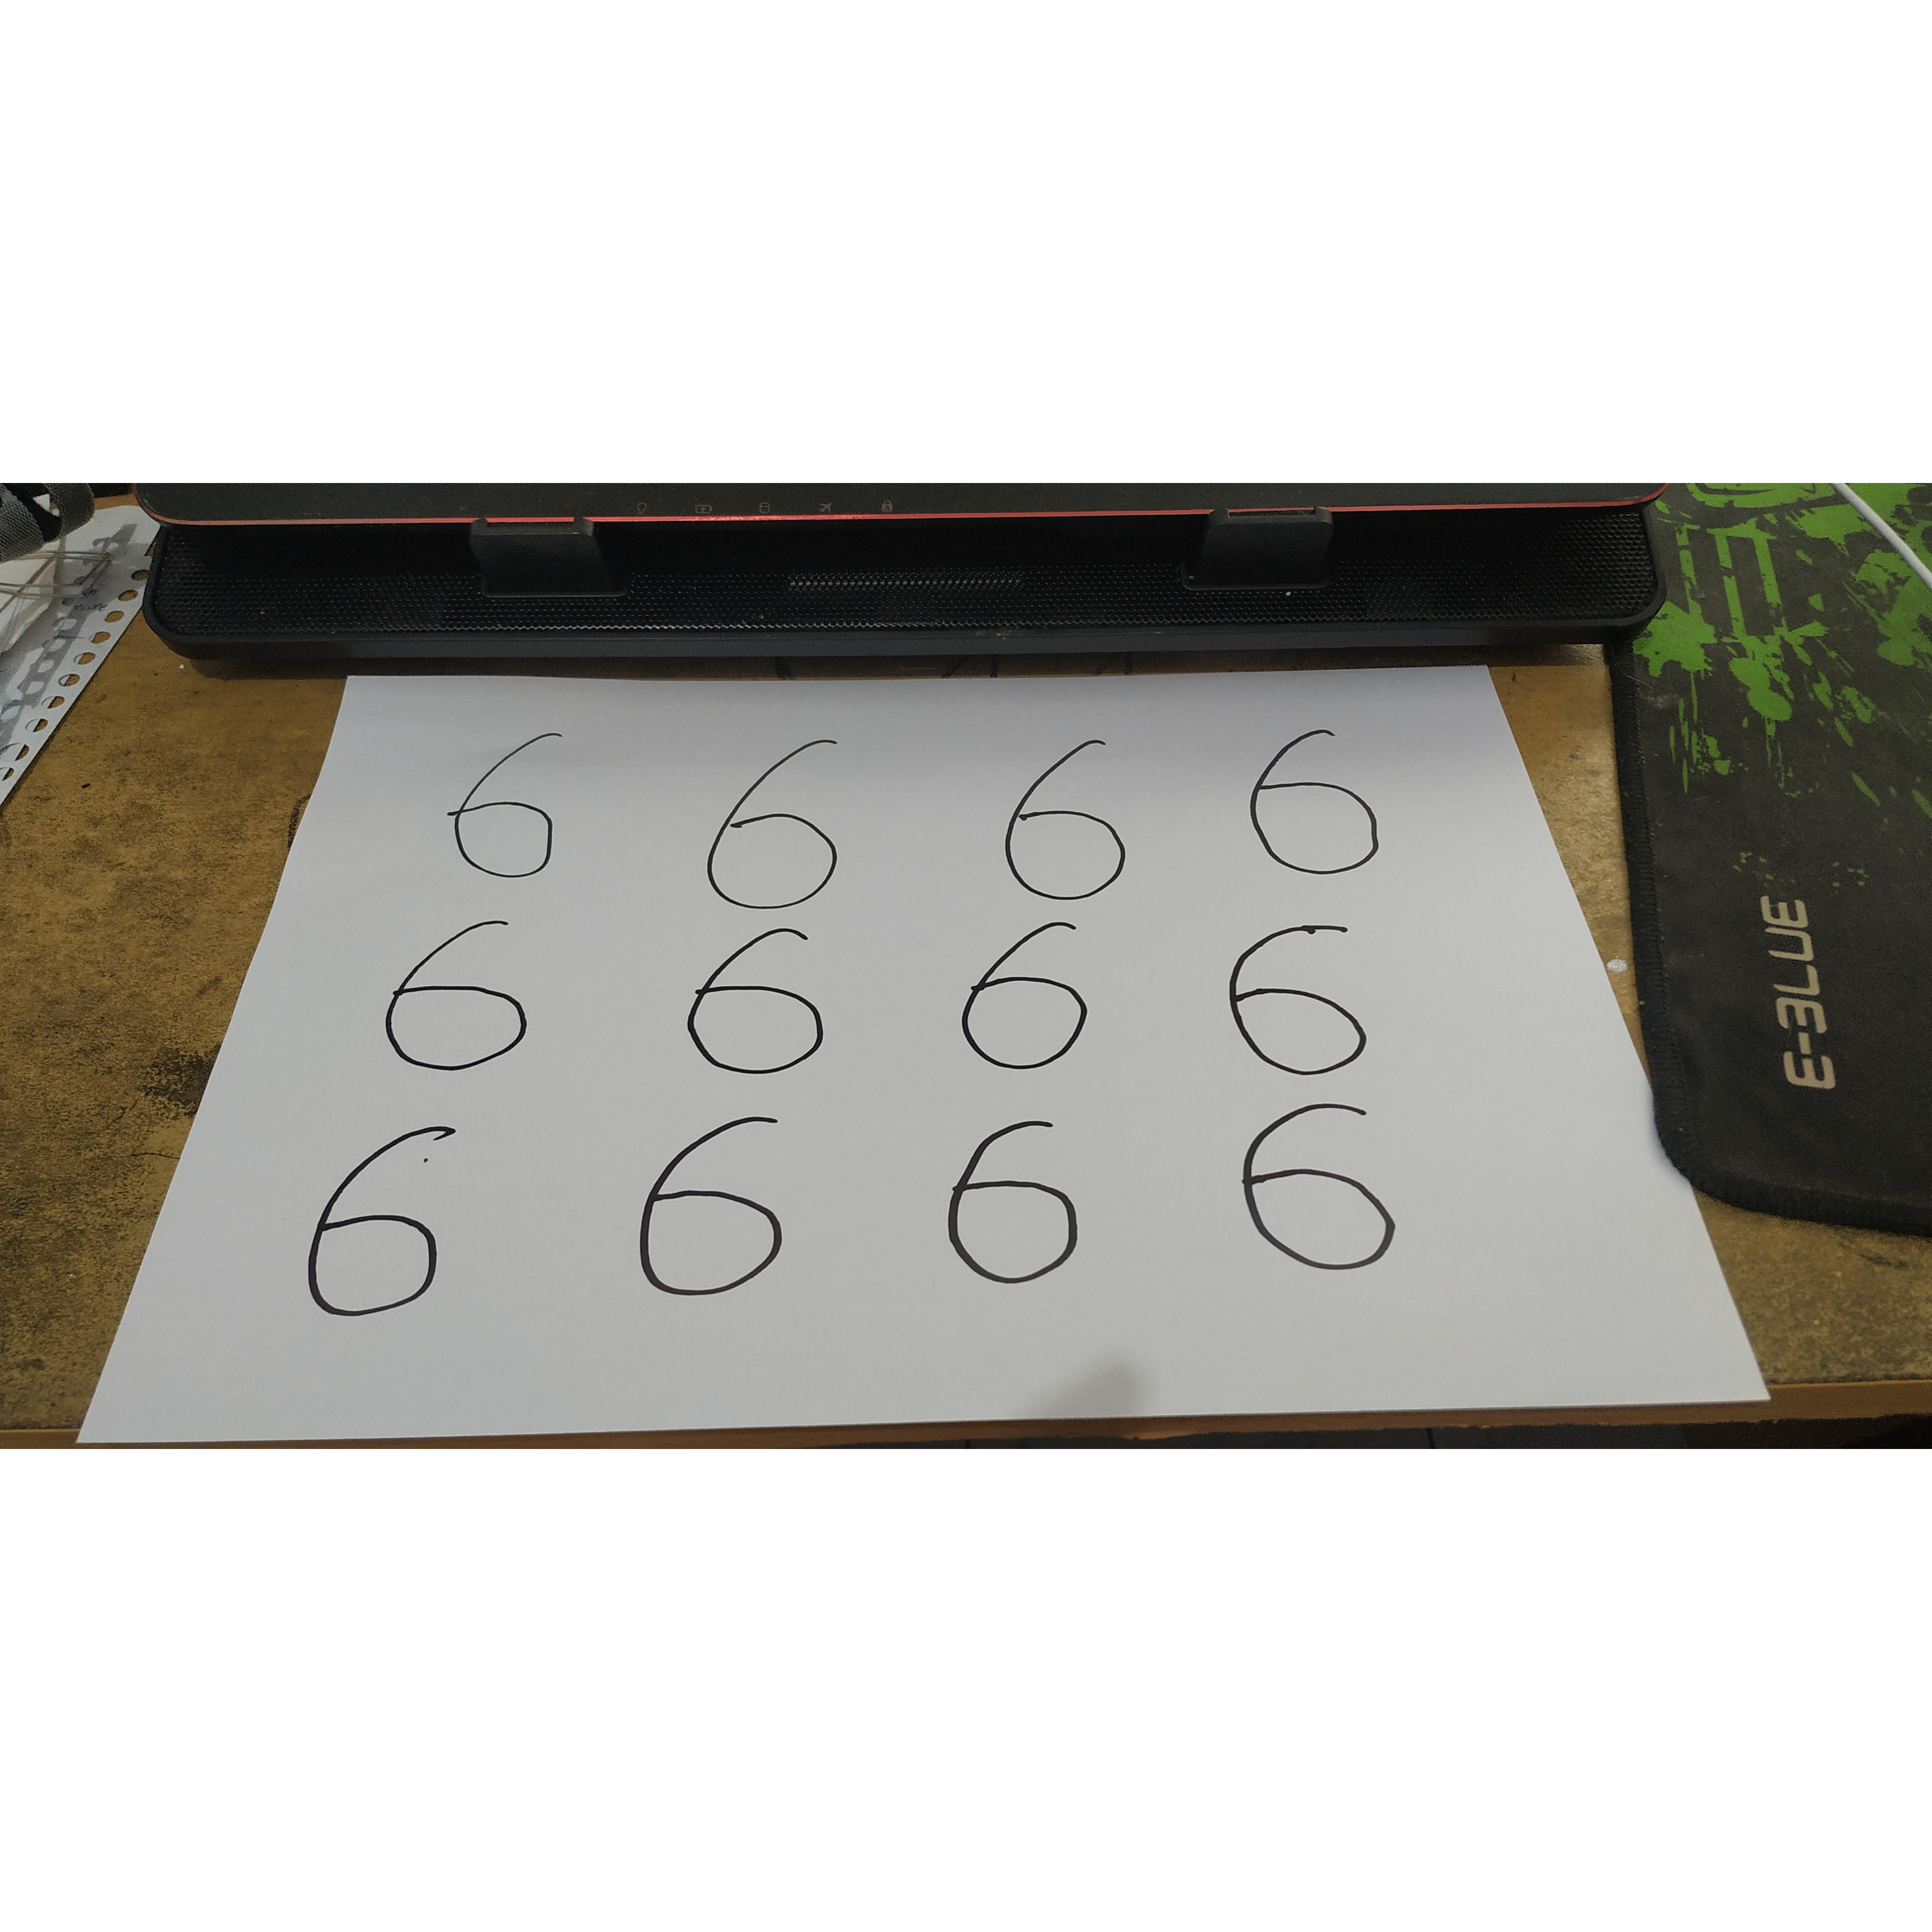num6: (1210, 1092, 1458, 1289), (270, 1113, 498, 1317), (623, 1107, 843, 1298), (421, 712, 614, 901), (696, 718, 866, 924), (929, 1109, 1106, 1304), (1208, 918, 1418, 1081), (1231, 703, 1410, 893), (660, 922, 860, 1086), (370, 913, 553, 1083), (990, 724, 1141, 907), (952, 918, 1116, 1077)
